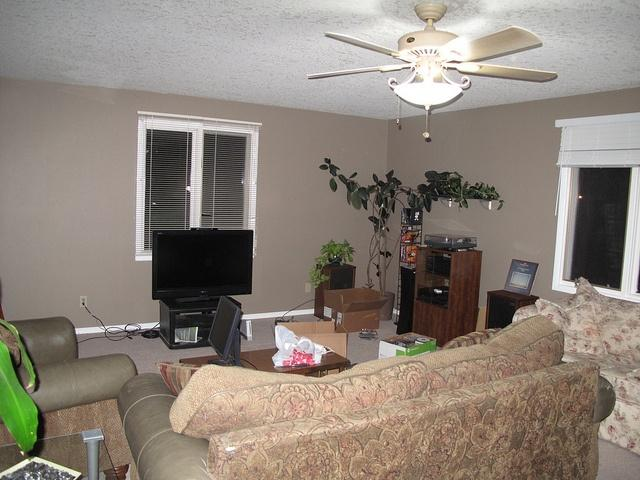AIO PC-Monitor-TV: (150, 228, 253, 301), (206, 294, 243, 366)
